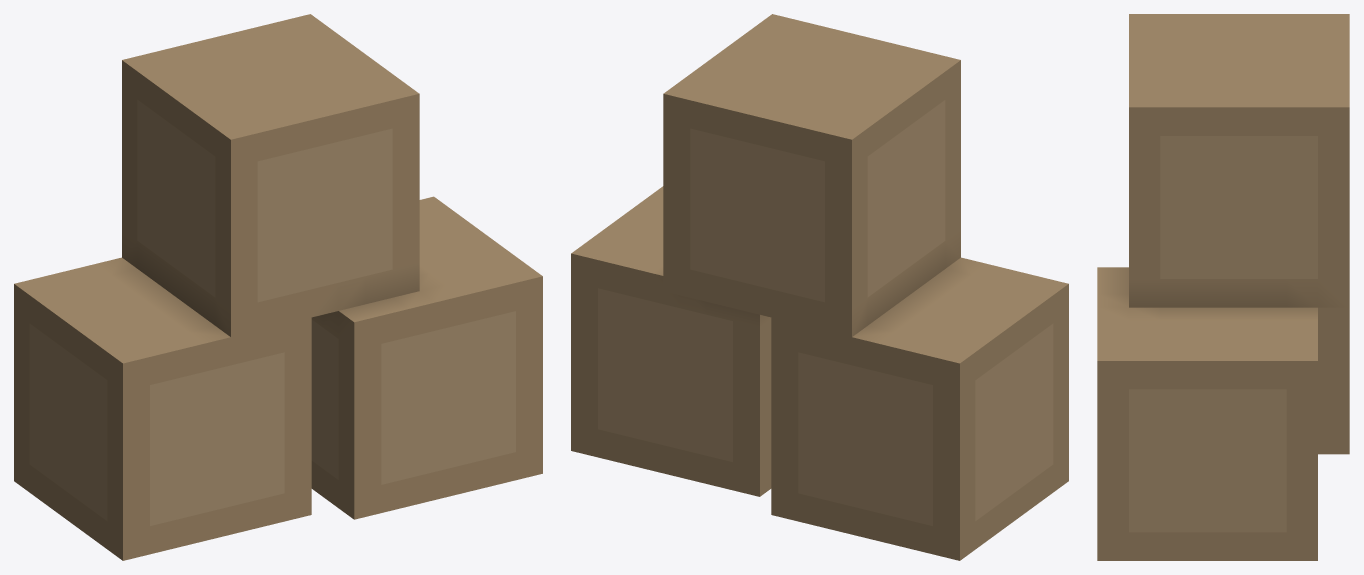
The model's file is caisses.glb.
The picture shows the model from 3 angles, left to right: view 1: azimuth 30°, elevation 25°; view 2: azimuth 150°, elevation 25°; view 3: azimuth 270°, elevation 25°; orthographic projection.
Visible parts, largest first — view 1: geometry_0; view 2: geometry_0; view 3: geometry_0.
Boxes of the visible parts, x1,y1,x2,y2 form: geometry_0: [14, 14, 542, 560]; geometry_0: [571, 14, 1068, 560]; geometry_0: [1097, 14, 1349, 560].
Bounding box in the file's own units: 1.88 × 1.75 × 1.
